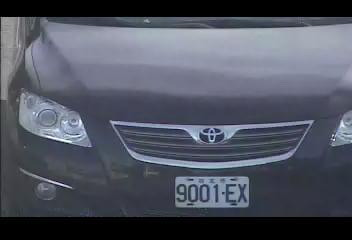plate: (173, 174, 251, 209)
